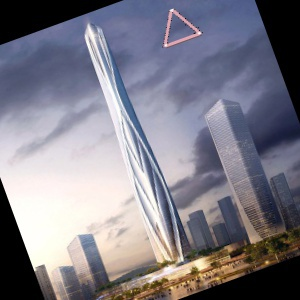triangle: (160, 5, 206, 49)
